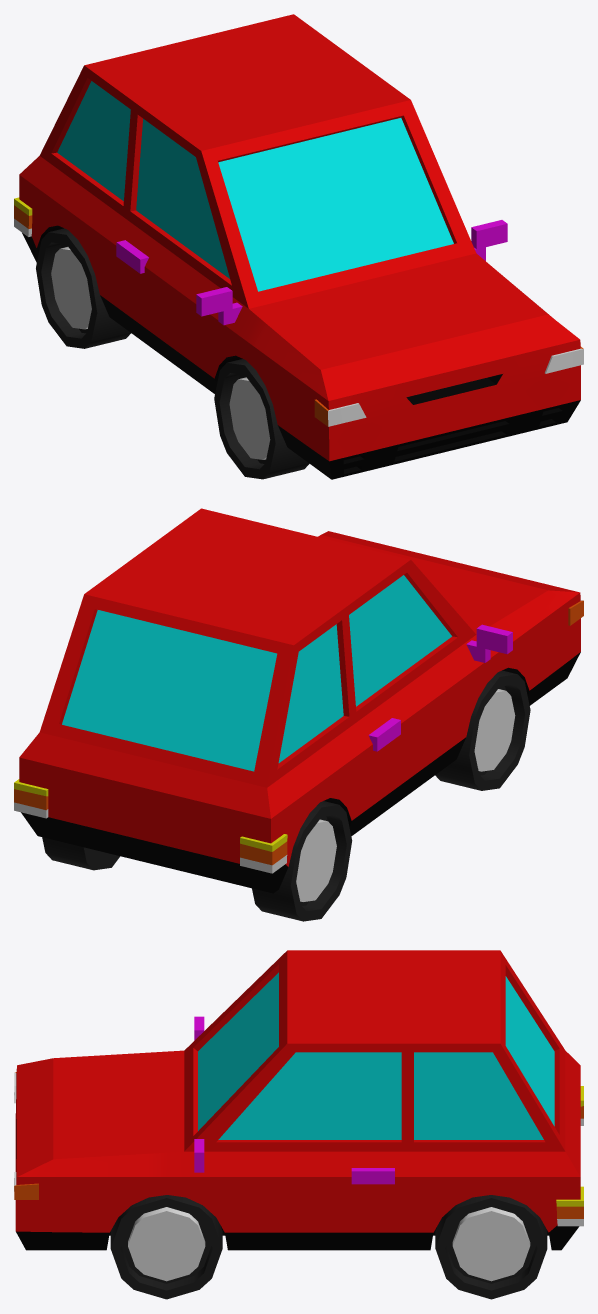
File: Car2.fbx
3 renders of one model, top to bottom at view 1: azimuth 30°, elevation 25°; view 2: azimuth 150°, elevation 25°; view 3: azimuth 270°, elevation 25°, orthographic. The views are drawn at different scales.
Visible parts, largest first — view 1: Car2; view 2: Car2; view 3: Car2.
Boxes of the visible parts, x1,y1,x2,y2 form: Car2: (14, 14, 583, 479); Car2: (14, 508, 583, 921); Car2: (14, 950, 583, 1299).
Size of the model in its own units: 185 by 157 by 328.
